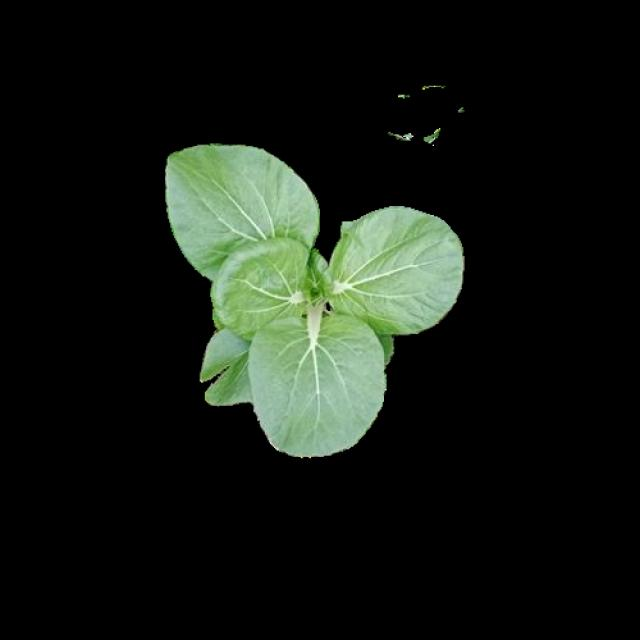healthy: (164, 142, 459, 452)
not-mature: (166, 144, 462, 454)
